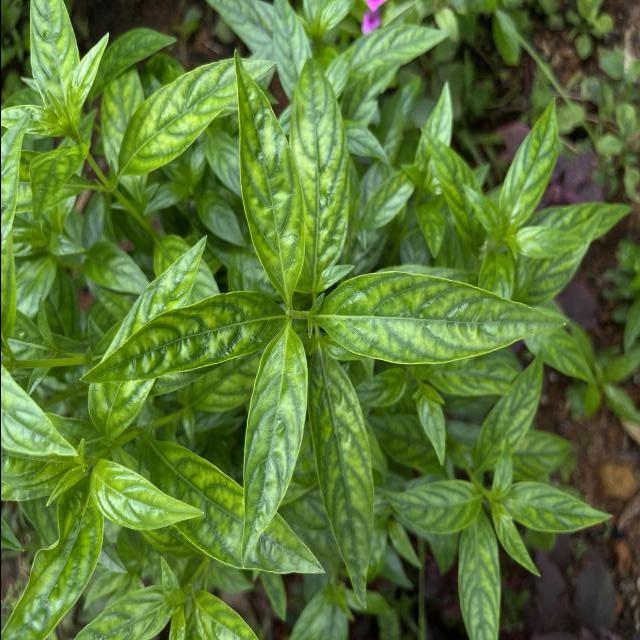Andrographis paniculata: (310, 268, 572, 369), (144, 437, 326, 582), (76, 286, 285, 393), (115, 49, 276, 178), (228, 43, 304, 307), (306, 356, 378, 614), (234, 322, 310, 566), (290, 56, 354, 284), (89, 457, 207, 538), (470, 350, 544, 473), (496, 94, 558, 231), (502, 480, 616, 536), (380, 476, 484, 535), (454, 518, 502, 640)
